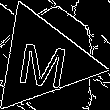M_N: (14, 31, 71, 89)
